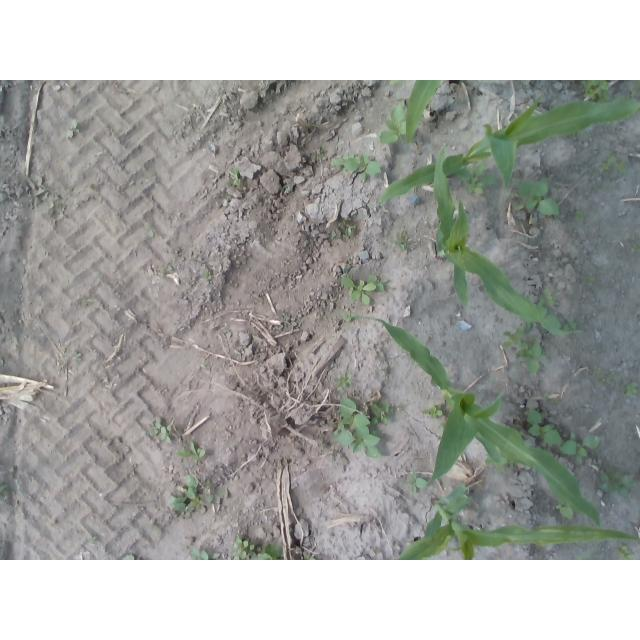Maize: (348, 312, 603, 561), (376, 93, 640, 207), (432, 144, 569, 336), (392, 482, 640, 560), (390, 80, 463, 144), (413, 536, 596, 561)
Weeds: (526, 407, 600, 466), (333, 397, 382, 459), (501, 321, 547, 376), (167, 474, 229, 510), (512, 177, 560, 215), (331, 154, 382, 183), (455, 162, 498, 196), (341, 275, 388, 306), (597, 463, 636, 497), (379, 101, 408, 145), (230, 537, 284, 560), (28, 176, 55, 209), (577, 81, 612, 104), (484, 448, 516, 473), (598, 150, 627, 174), (176, 441, 206, 464), (369, 399, 395, 425), (150, 417, 175, 443), (330, 217, 355, 240), (406, 472, 429, 494), (539, 307, 562, 329), (535, 287, 557, 307), (188, 548, 221, 561), (555, 501, 576, 520), (224, 166, 242, 187), (395, 231, 414, 250), (335, 371, 354, 390), (278, 314, 298, 330), (616, 545, 636, 560), (422, 404, 442, 419), (621, 380, 639, 396), (592, 365, 606, 385), (67, 118, 78, 138), (585, 272, 598, 288), (143, 220, 155, 237), (573, 210, 587, 224), (563, 318, 578, 331), (631, 79, 640, 96), (201, 265, 211, 279), (71, 350, 81, 363), (340, 313, 352, 323), (0, 482, 8, 494), (304, 553, 317, 560), (121, 554, 136, 560), (318, 149, 326, 160), (389, 80, 403, 86), (611, 374, 621, 382), (633, 243, 640, 253), (438, 422, 445, 430), (88, 535, 96, 541), (166, 265, 173, 271)
